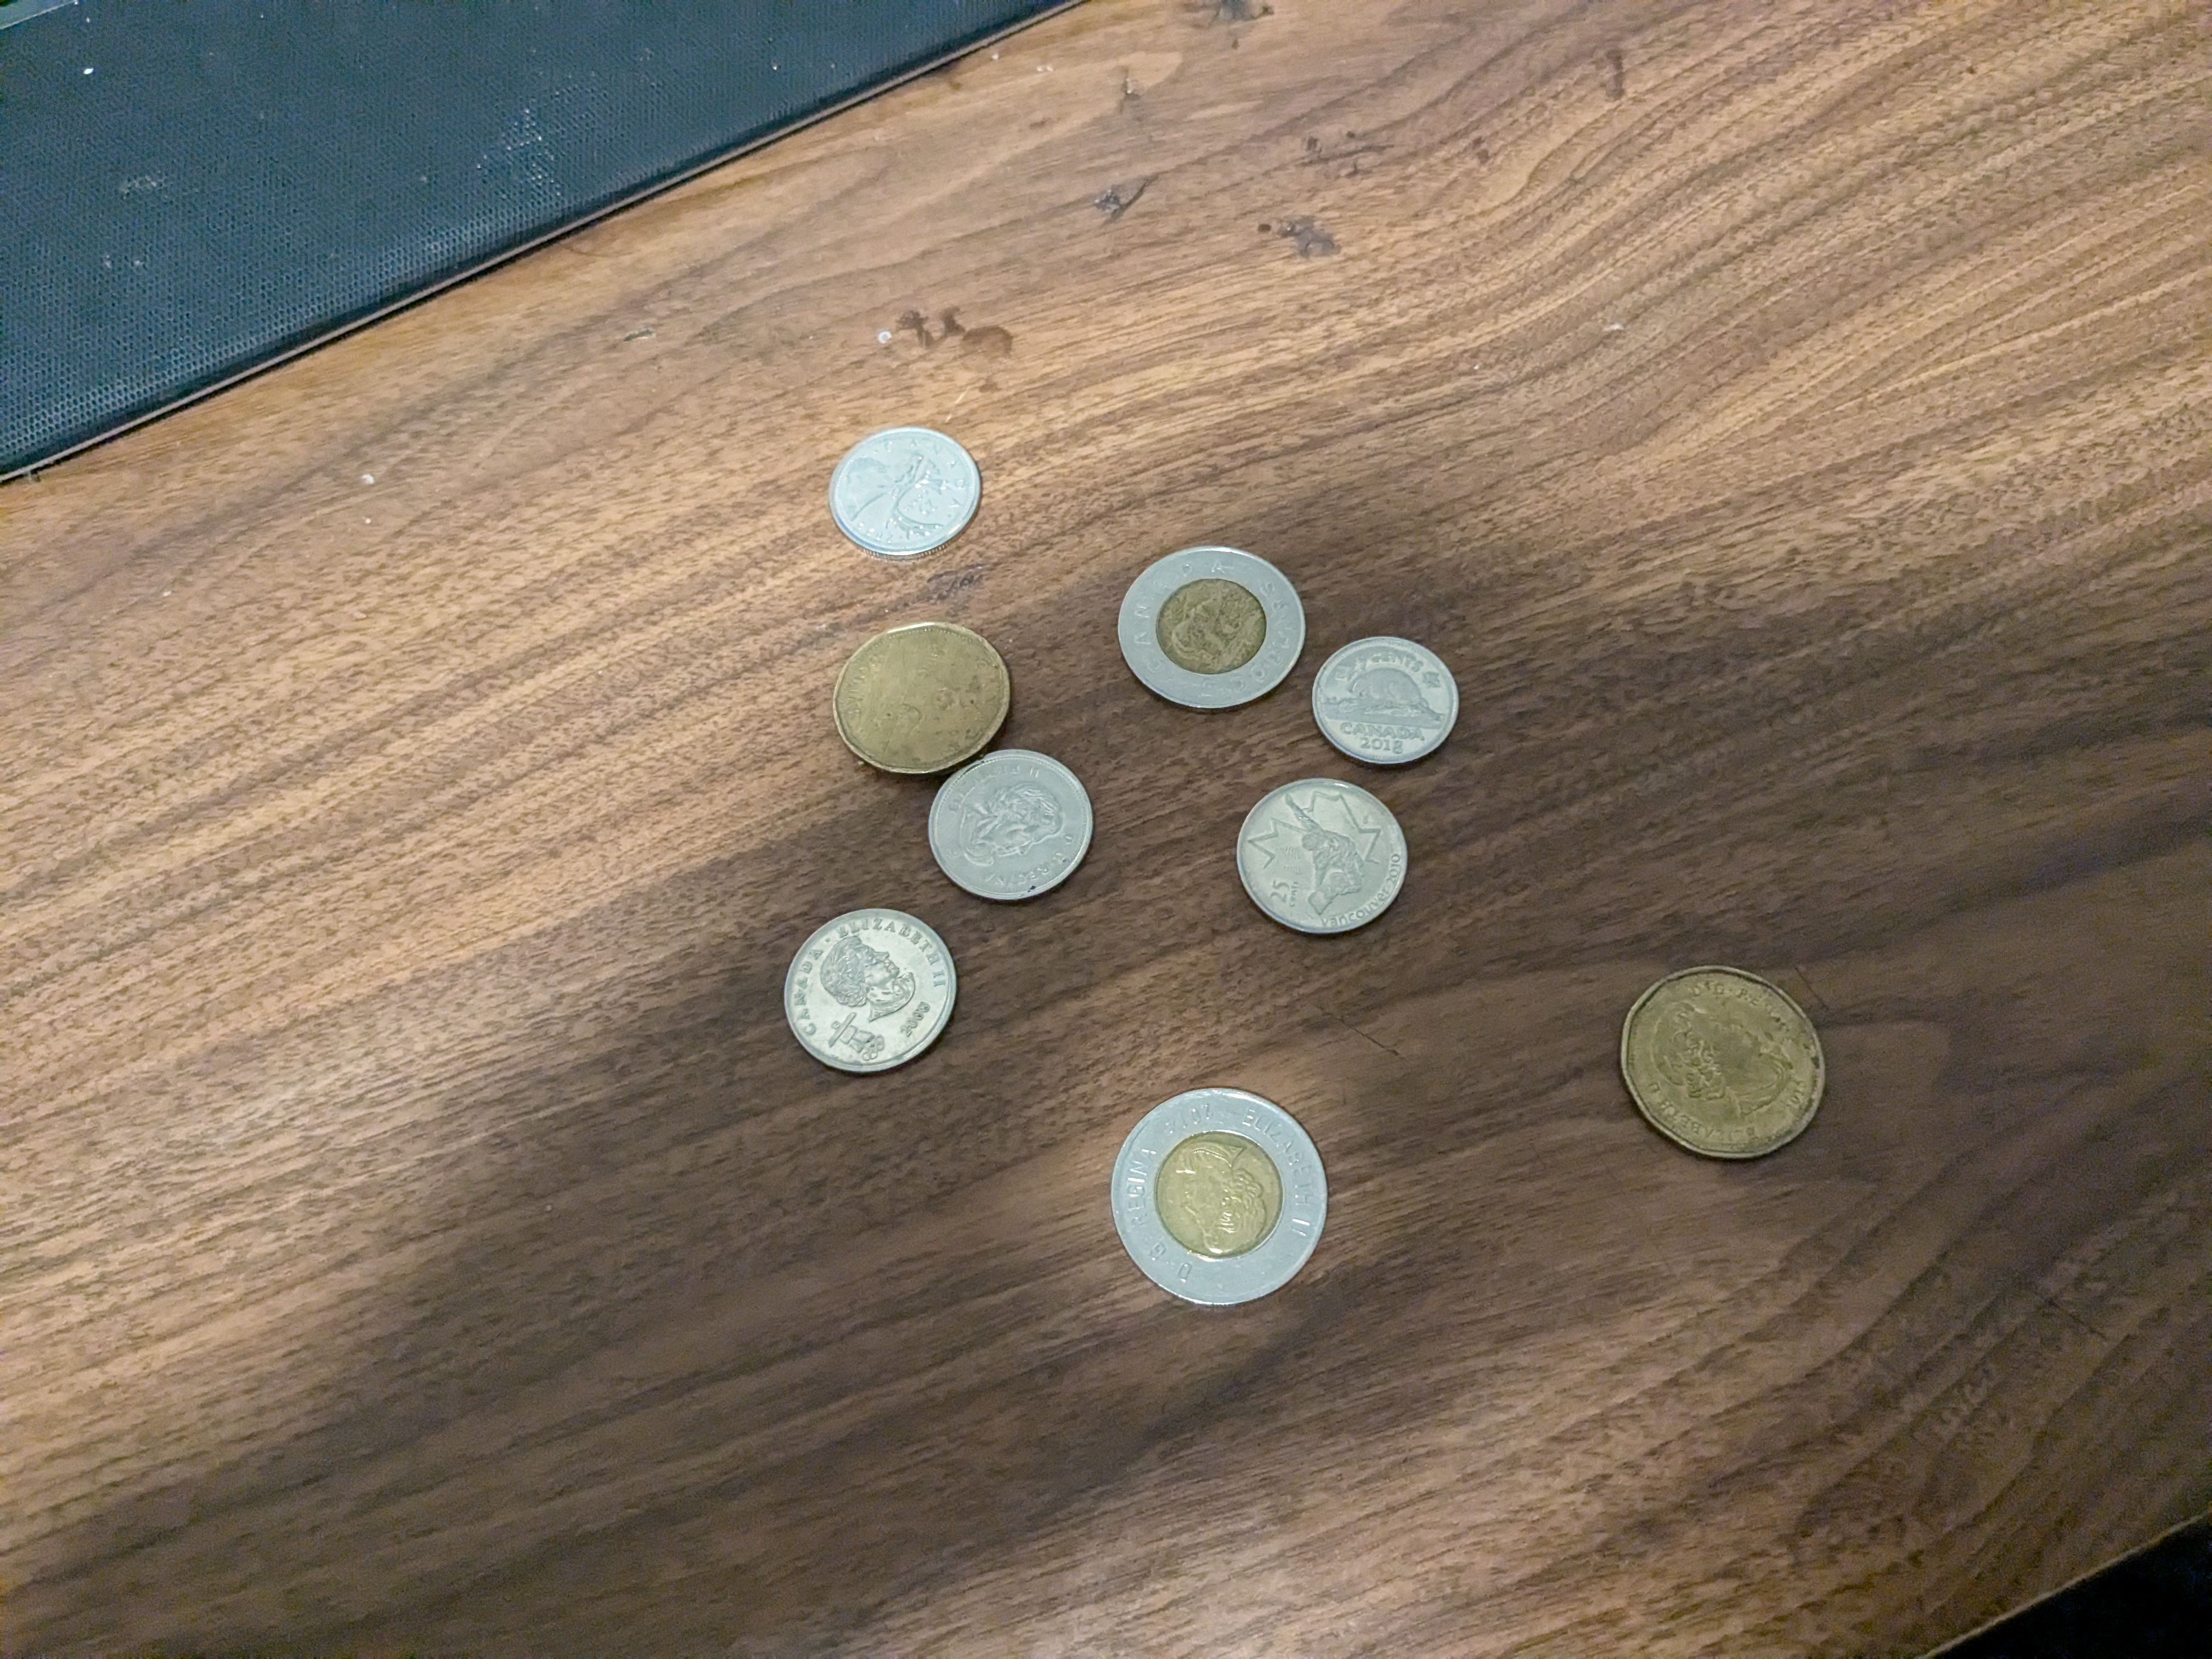loonie: (1620, 965, 1822, 1169), (827, 624, 1008, 770)
nickel: (1312, 634, 1463, 762)
quarter: (786, 903, 954, 1072), (1238, 775, 1407, 936), (927, 749, 1092, 899), (838, 425, 981, 563)
toonie: (1103, 1080, 1332, 1314), (1115, 544, 1308, 713)
